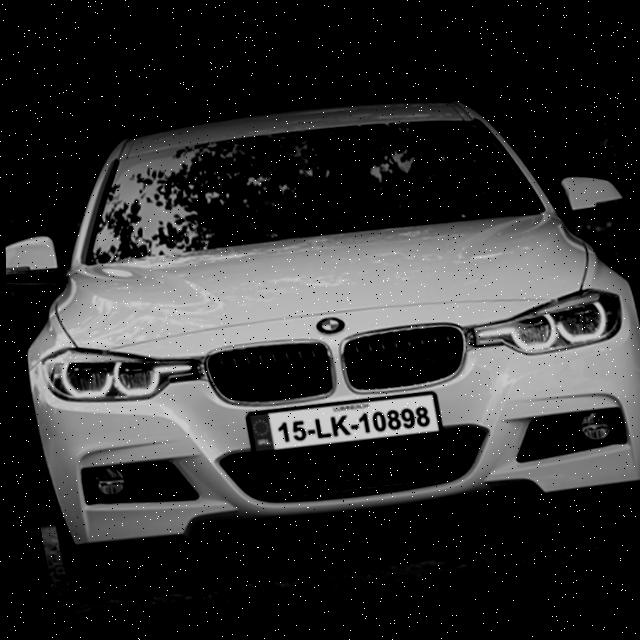license-plates: (251, 394, 441, 453)
